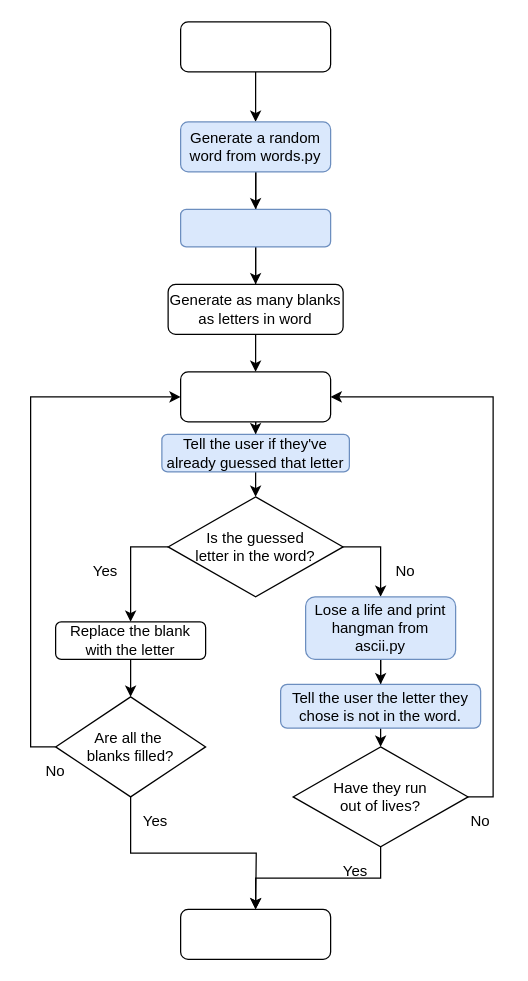
Image size: 528x981. Some labels were removed from this diagram. Here are the shapes that lost their labels. From the top down, the box of each, then its label:
(179, 21, 331, 72): START
(179, 208, 331, 247): Print Hangman logo from ascii.py
(179, 371, 331, 422): Ask the user to guess a letter
(179, 908, 331, 959): GAME OVER
